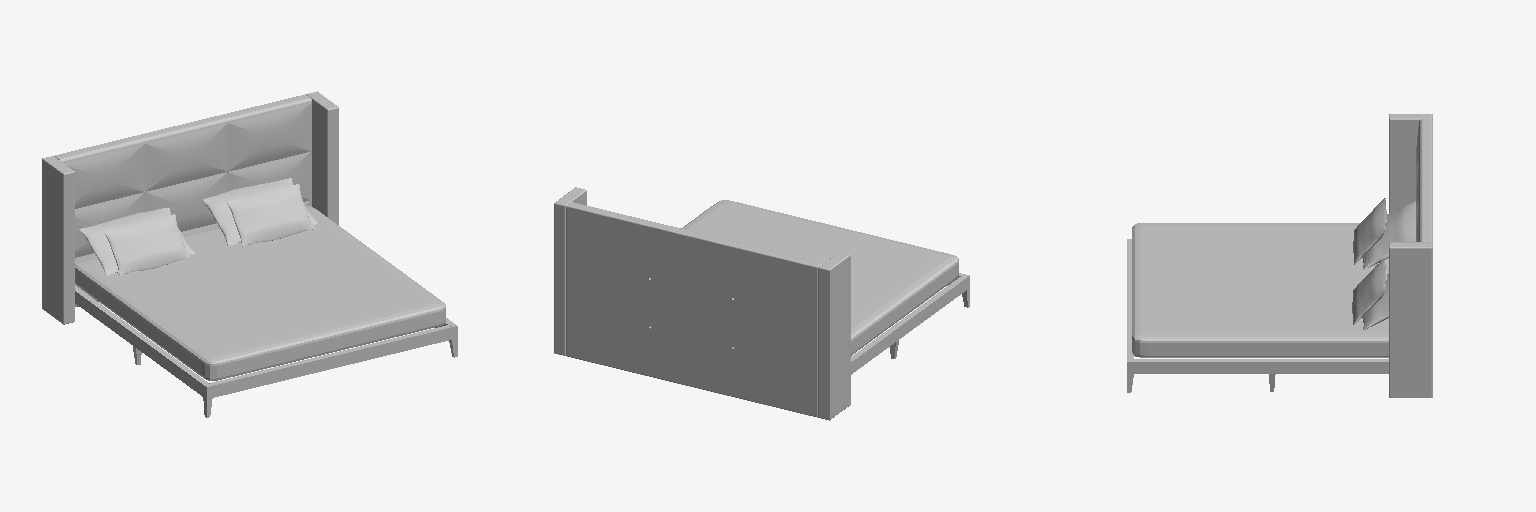
The model's file is letto_matrimoniale.obj.
The picture shows the model from 3 angles: view 1: azimuth 30°, elevation 25°; view 2: azimuth 150°, elevation 25°; view 3: azimuth 270°, elevation 25°; orthographic projection.
Parts seen in each view (by area): view 1: Box08, _dSolid, Mass_Elem4, Pillow03, Pillow02, _dSolid0, _dSolid1, Mass_Elem3, Pillow, Pillow01, PolygonM57, PolygonM33 (+14 smaller); view 2: _dSolid1, Box08, _dSolid, _dSolid0, Mass_Elem3; view 3: Box08, _dSolid0, Mass_Elem6, _dSolid, _dSolid1, Pillow, Pillow03, Pillow02, Pillow01, Mass_Elem4.
Part boxes in pixels (bbox=[...]): Box08: bbox=[75, 206, 445, 380]; _dSolid: bbox=[42, 156, 74, 324]; Mass_Elem4: bbox=[209, 325, 451, 397]; Pillow03: bbox=[226, 184, 314, 246]; Pillow02: bbox=[104, 214, 190, 275]; _dSolid0: bbox=[306, 91, 338, 224]; _dSolid1: bbox=[54, 94, 311, 306]; Mass_Elem3: bbox=[75, 285, 207, 396]; Pillow: bbox=[79, 208, 194, 275]; Pillow01: bbox=[202, 178, 317, 245]; PolygonM57: bbox=[145, 123, 227, 158]; PolygonM33: bbox=[229, 103, 310, 137]; _dSolid1: bbox=[566, 202, 823, 417]; Box08: bbox=[681, 200, 958, 355]; _dSolid: bbox=[818, 252, 850, 420]; _dSolid0: bbox=[554, 187, 586, 355]; Mass_Elem3: bbox=[851, 277, 966, 374]; Box08: bbox=[1132, 223, 1388, 357]; _dSolid0: bbox=[1389, 242, 1432, 397]; Mass_Elem6: bbox=[1134, 359, 1388, 373]; _dSolid: bbox=[1389, 114, 1432, 212]; _dSolid1: bbox=[1419, 119, 1432, 242]; Pillow: bbox=[1362, 200, 1415, 269]; Pillow03: bbox=[1352, 257, 1386, 324]; Pillow02: bbox=[1353, 198, 1386, 264]; Pillow01: bbox=[1362, 274, 1388, 329]; Mass_Elem4: bbox=[1127, 242, 1133, 358].
Size of the model in its own units: 2.33 by 1.22 by 2.23.